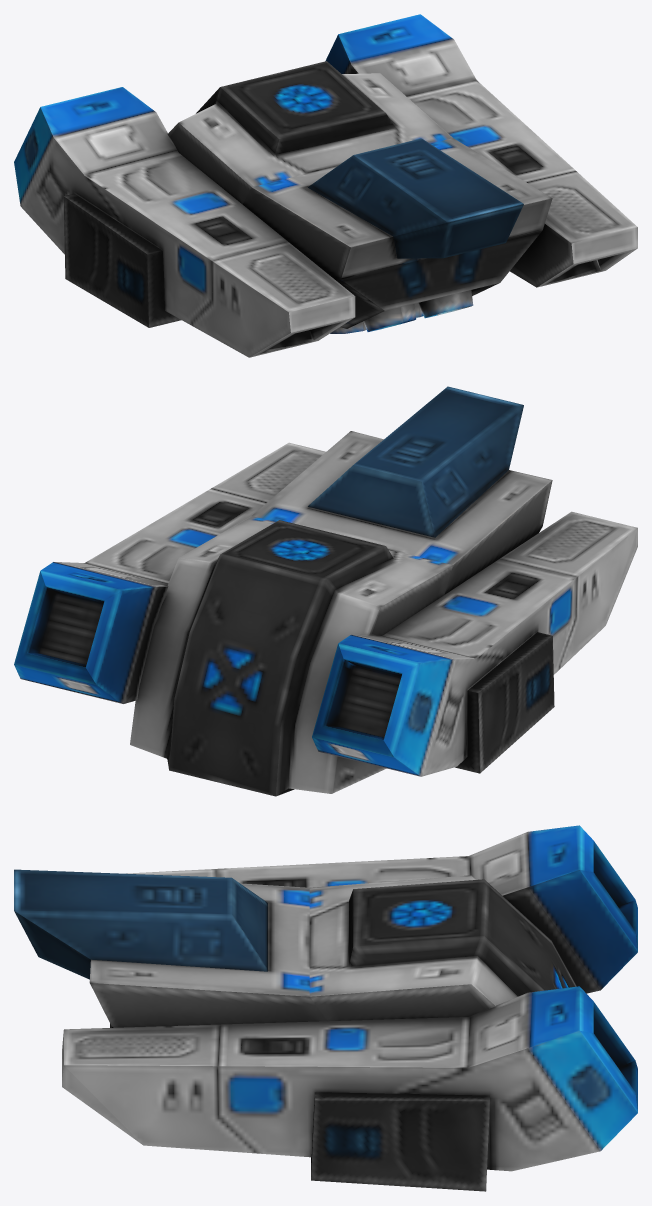
The model's file is PBR_HP_Mesh_Backpack1.fbx.
3 renders of one model, top to bottom at view 1: azimuth 30°, elevation 25°; view 2: azimuth 150°, elevation 25°; view 3: azimuth 270°, elevation 25°, orthographic. The views are drawn at different scales.
Visible parts, largest first — view 1: Backpack1; view 2: Backpack1; view 3: Backpack1.
Part boxes in pixels (x1,y1,x2,y2): Backpack1: [14, 14, 637, 357]; Backpack1: [14, 386, 637, 796]; Backpack1: [14, 825, 637, 1191].
Size of the model in its own units: 73.8 by 36.35 by 86.92.
